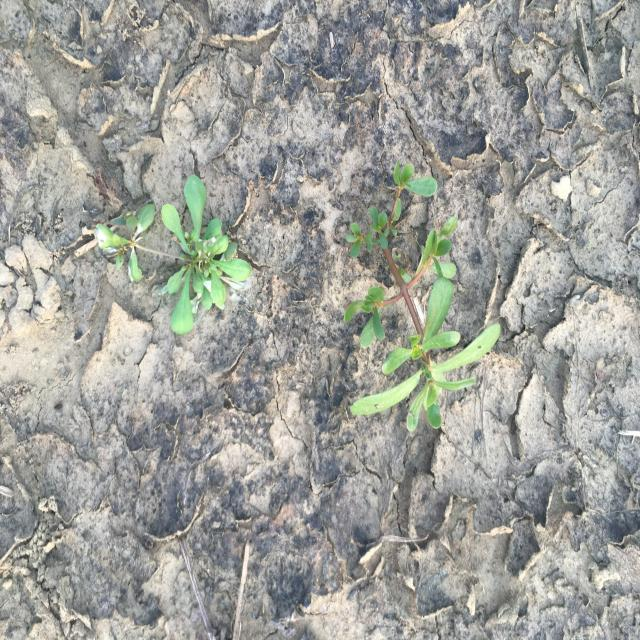Carpetweed: (93, 172, 253, 336)
Purslane: (342, 159, 502, 435)
